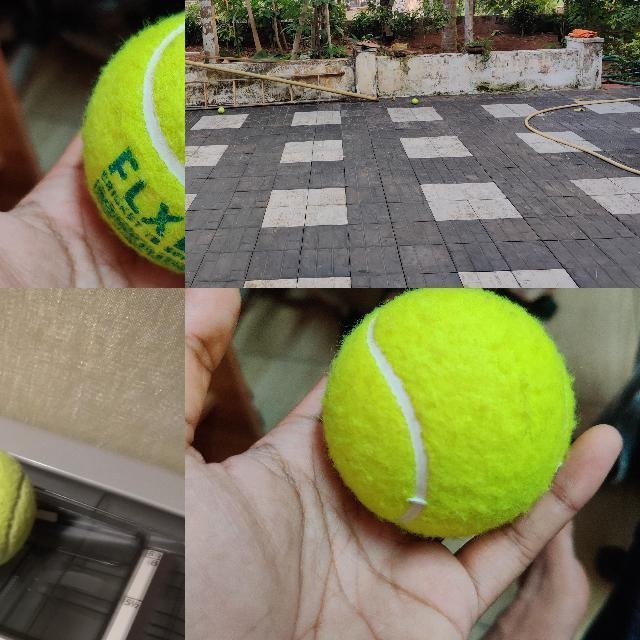tennis-ball: (322, 288, 574, 537), (83, 12, 184, 275), (0, 437, 40, 574), (411, 98, 417, 104), (218, 107, 224, 113)
